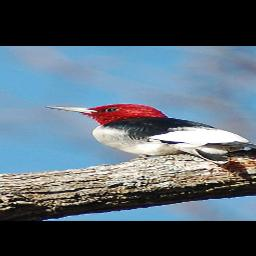Woodpecker: (39, 103, 256, 165)
